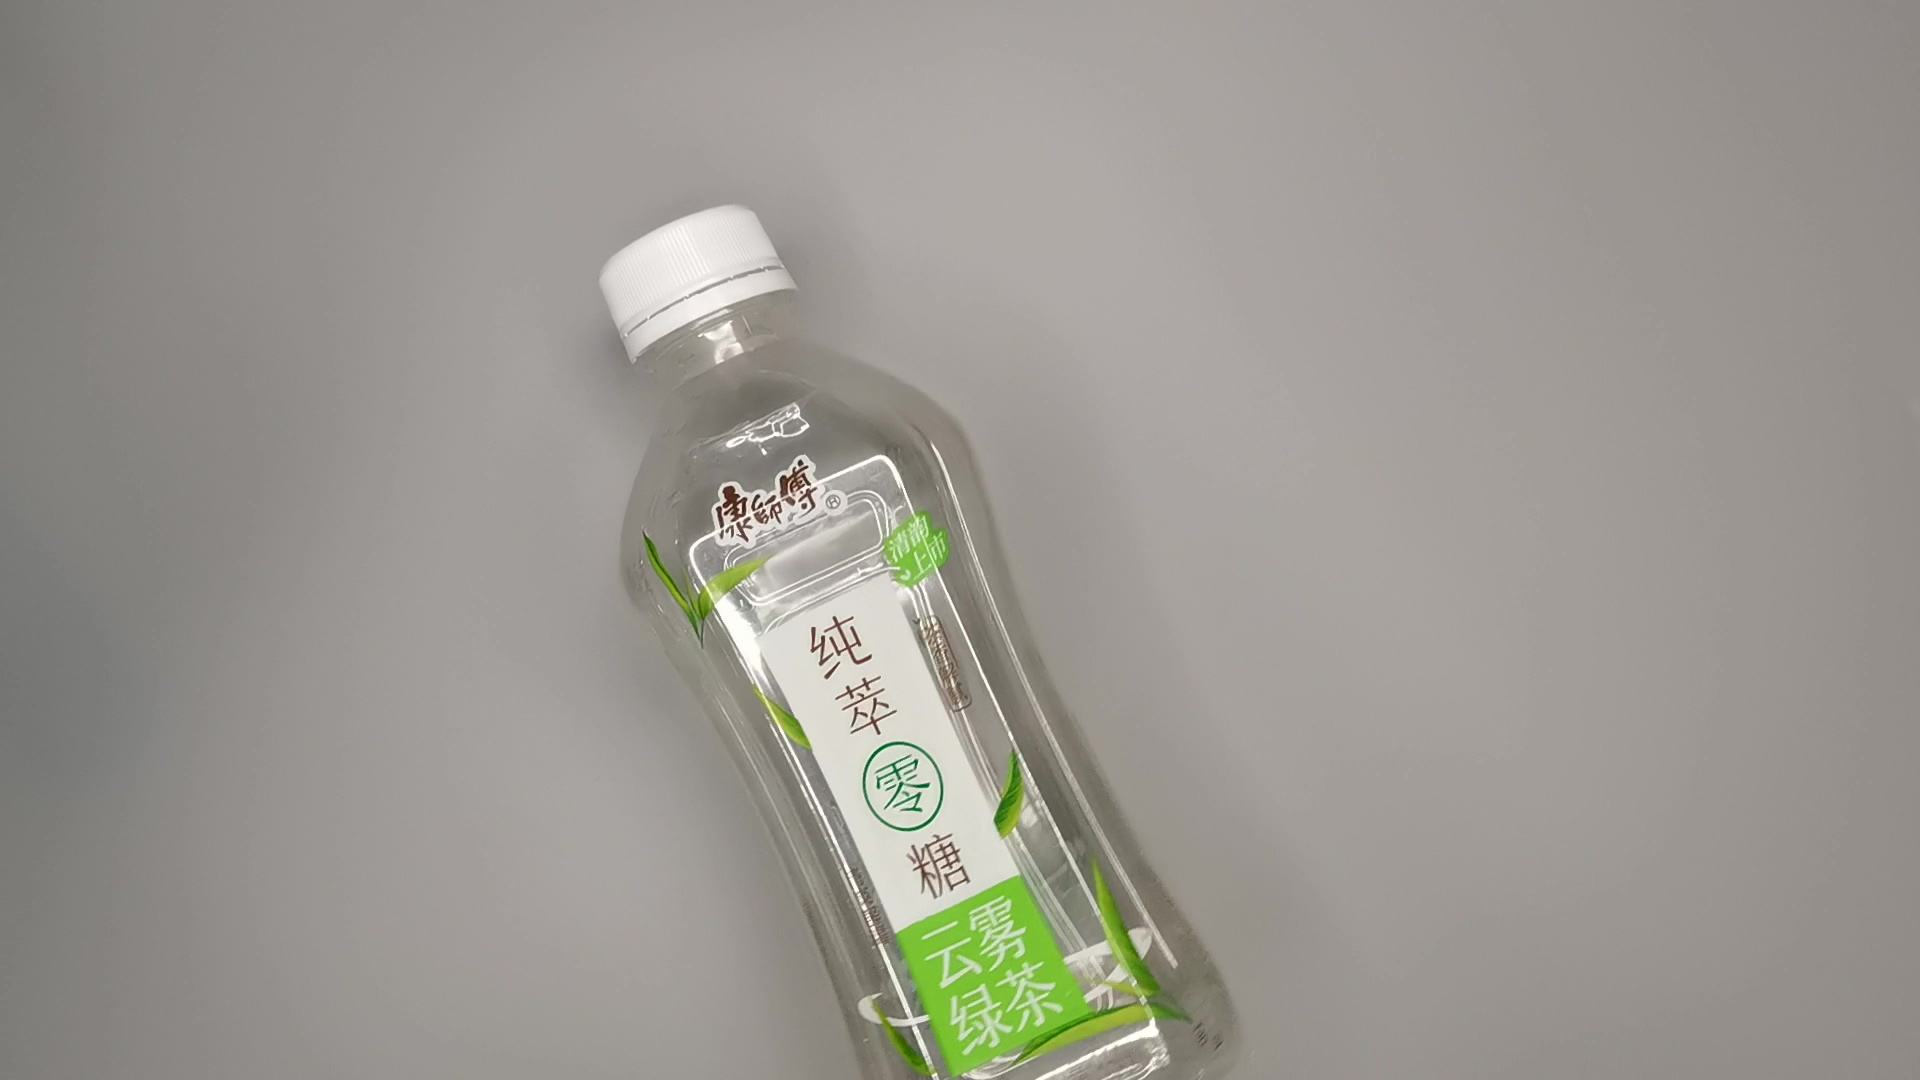bottle: (593, 193, 1257, 1080)
